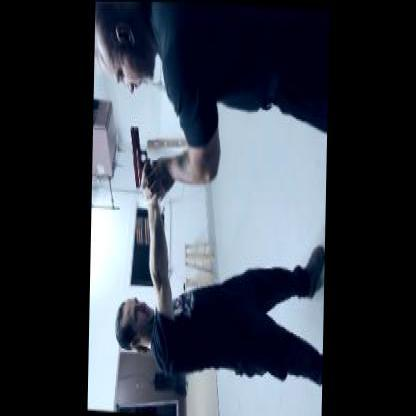pistol: (126, 126, 148, 190)
